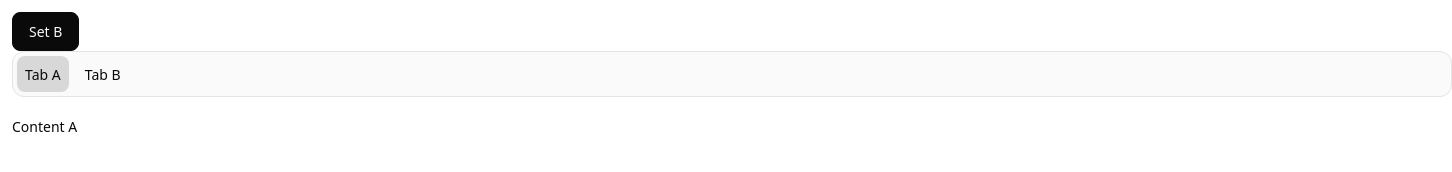
Scenario: Tabs › controlled mode › respects controlled value prop
The image size is (1452, 172).
Click the button "Set B" at (46, 32), box top-left (12, 12), bottom-right (79, 51)
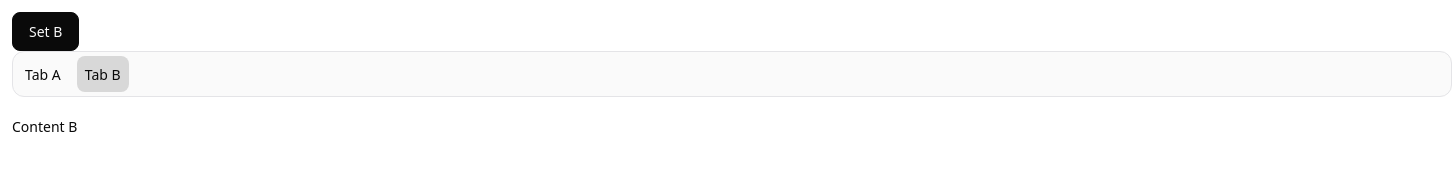
Check: the text "Content B" is shown, box top-left (12, 117), bottom-right (77, 136)
